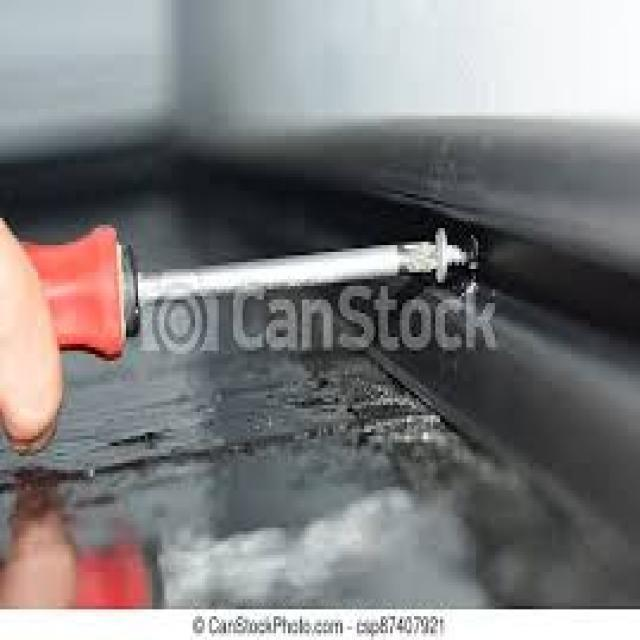screwdriver: (0, 220, 440, 366)
